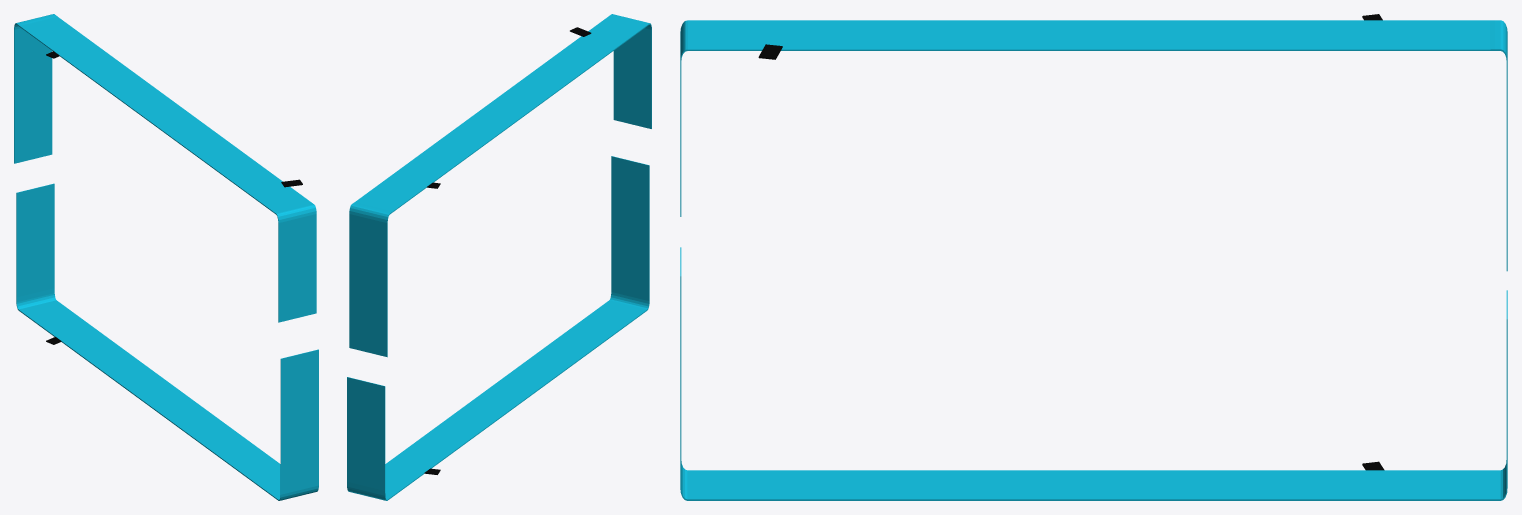
File: tape_open_12.fbx
3 renders of one model, left to right at view 1: azimuth 30°, elevation 25°; view 2: azimuth 150°, elevation 25°; view 3: azimuth 270°, elevation 25°, orthographic. The views are drawn at different scales.
Visible parts, largest first — view 1: tape_0.025; view 2: tape_0.025; view 3: tape_0.025.
Boxes of the visible parts, box(x1,y1,x2,y2) form: tape_0.025: box(14, 14, 318, 500); tape_0.025: box(347, 14, 651, 500); tape_0.025: box(680, 20, 1507, 500).
Size of the model in its own units: 33.37 by 151 by 251.
